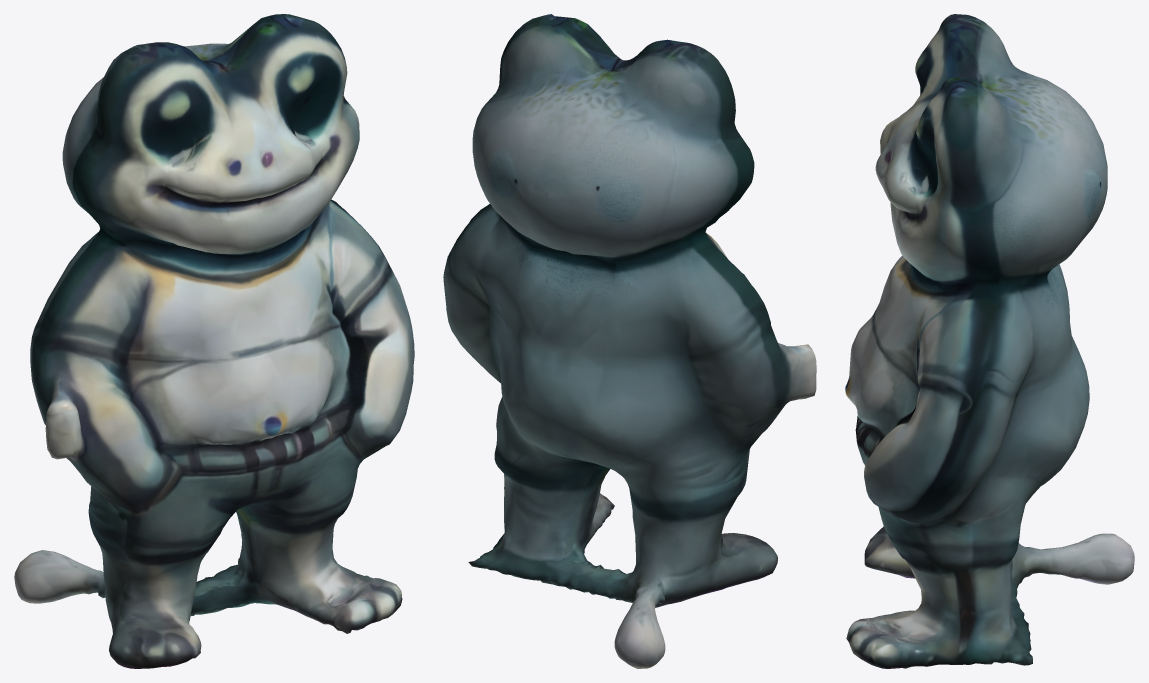
File: 1_jake.glb
3 renders of one model, left to right at view 1: azimuth 30°, elevation 25°; view 2: azimuth 150°, elevation 25°; view 3: azimuth 270°, elevation 25°, orthographic. The views are drawn at different scales.
Size of the model in its own units: 0.7844 by 1.2 by 0.5461.
Materials: 1 (1 with a texture image).
